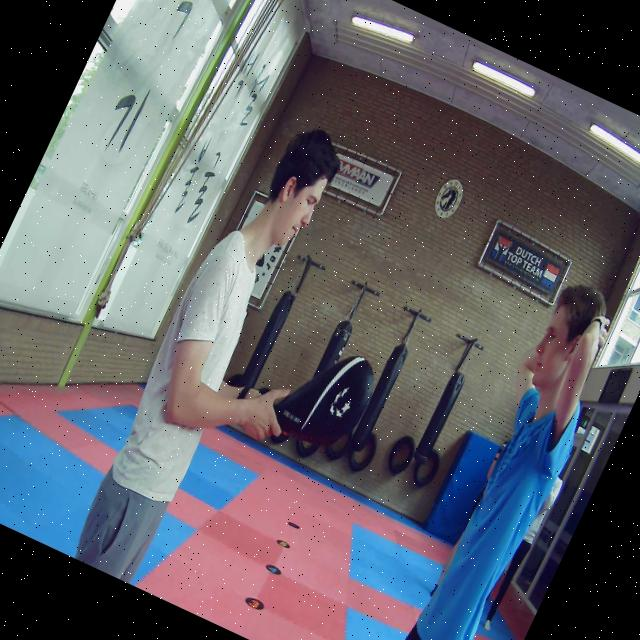paddle: (272, 355, 374, 446)
